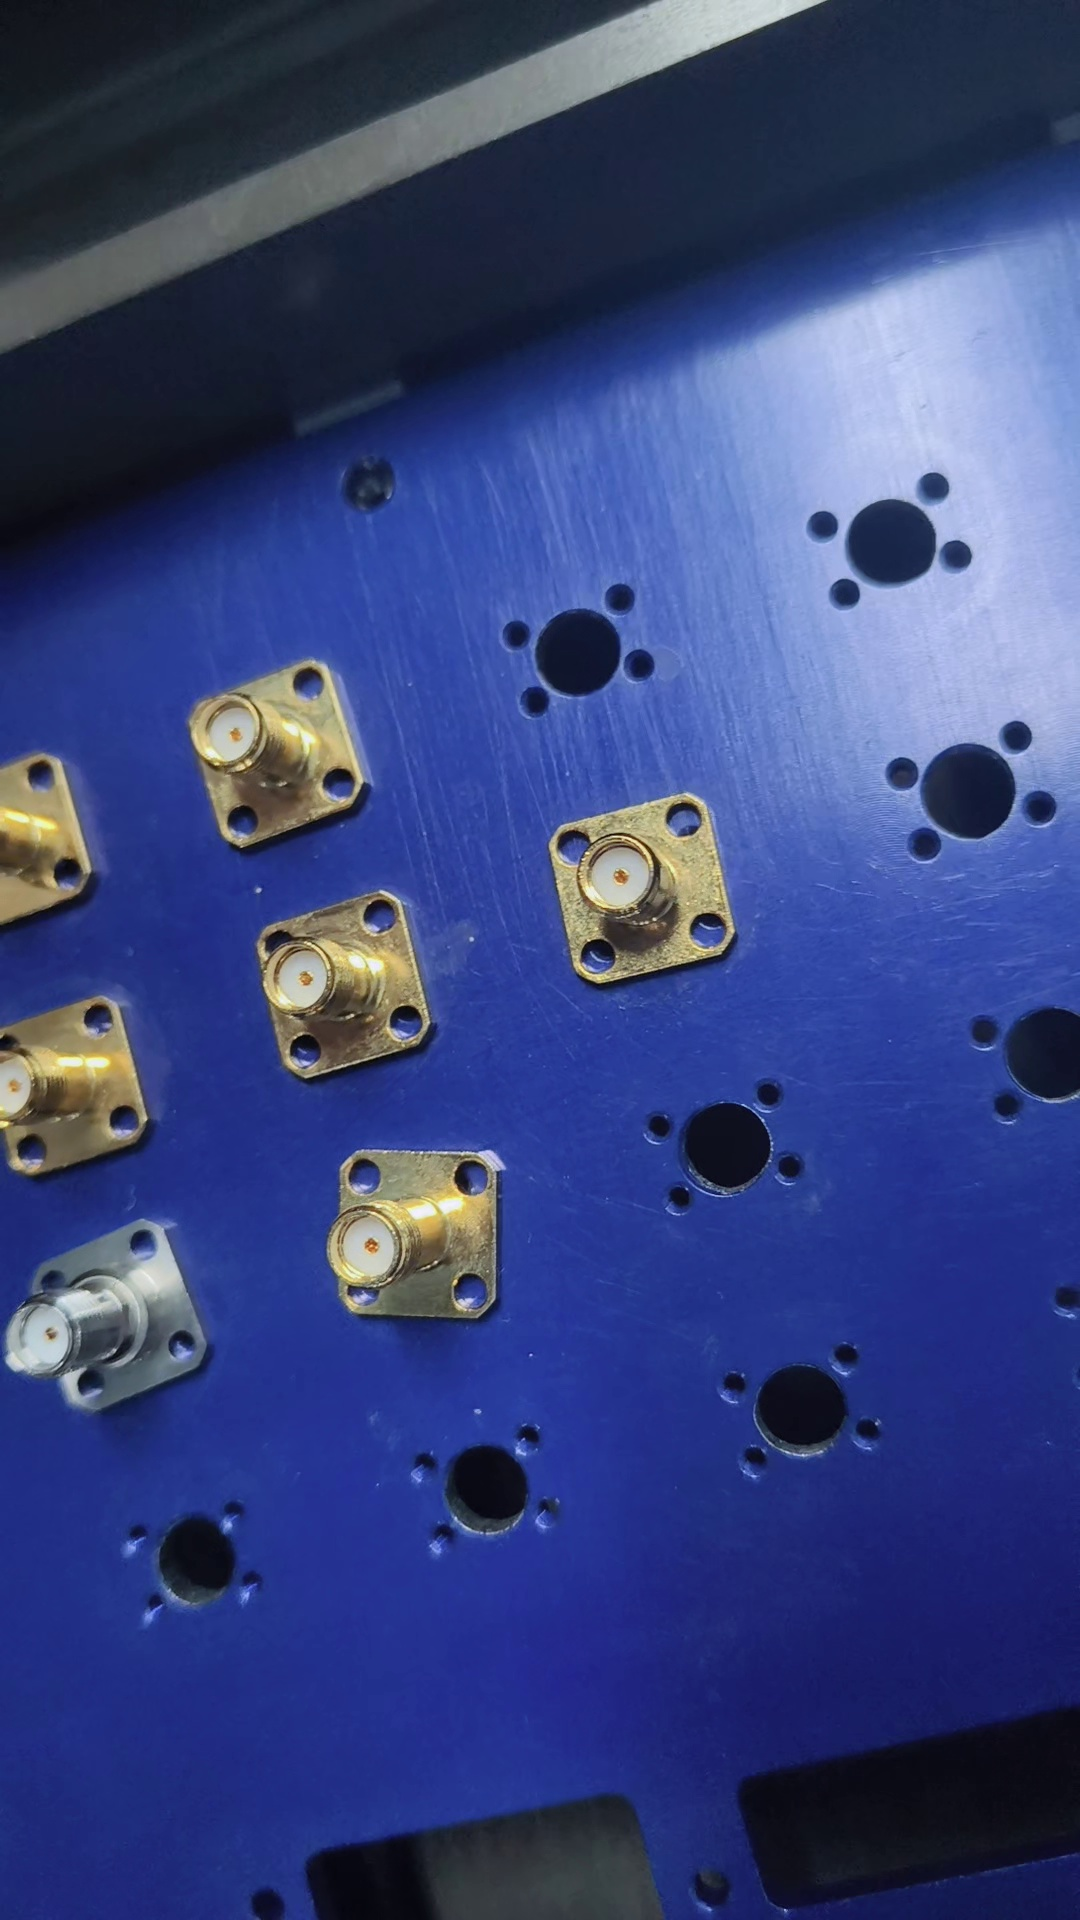SMA: (9, 1212, 215, 1418), (196, 654, 377, 866), (553, 789, 737, 988), (261, 878, 435, 1084), (334, 1145, 516, 1324), (1, 992, 160, 1176)
